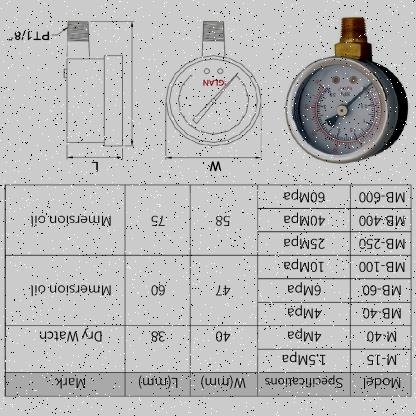needle: (345, 82, 373, 108)
